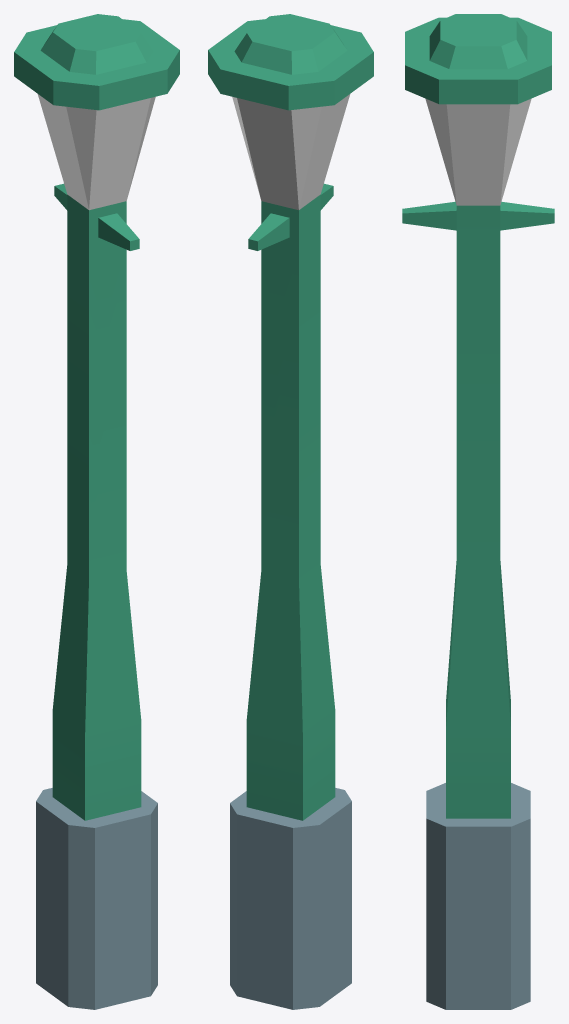
Rendered from d_kenney_lampadaire.glb.
3 renders of one model, left to right at view 1: azimuth 30°, elevation 25°; view 2: azimuth 150°, elevation 25°; view 3: azimuth 270°, elevation 25°, orthographic.
Visible parts, largest first — view 1: d_kenney_lampadaire; view 2: d_kenney_lampadaire; view 3: d_kenney_lampadaire.
Boxes of the visible parts, x1,y1,x2,y2 form: d_kenney_lampadaire: (14, 14, 179, 1009); d_kenney_lampadaire: (208, 14, 373, 1009); d_kenney_lampadaire: (402, 14, 554, 1009).
Size of the model in its own units: 0.2163 by 1.56 by 0.2243.
1 material, 1 textured.
